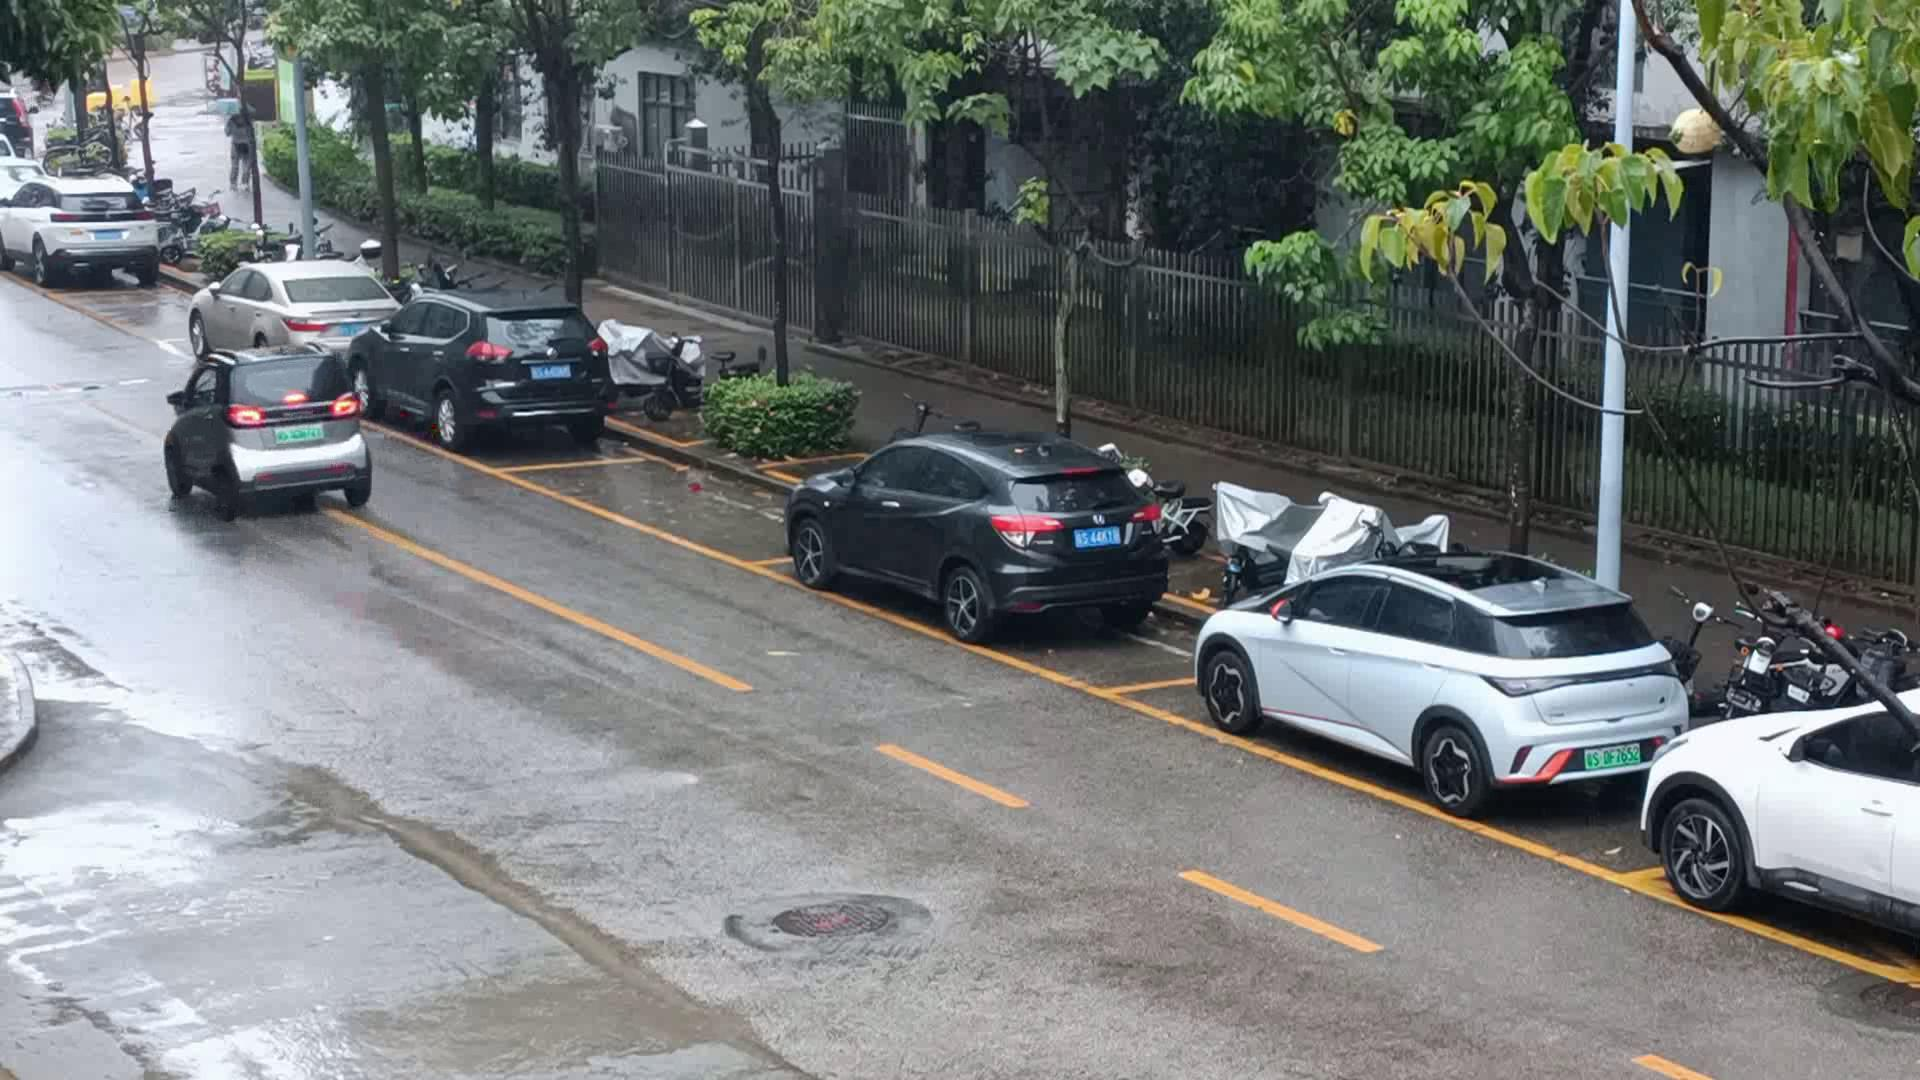space-empty: (492, 454, 843, 566), (45, 284, 236, 347)
space-occupied: (1097, 655, 1718, 893), (735, 527, 1234, 688), (336, 386, 647, 472)
